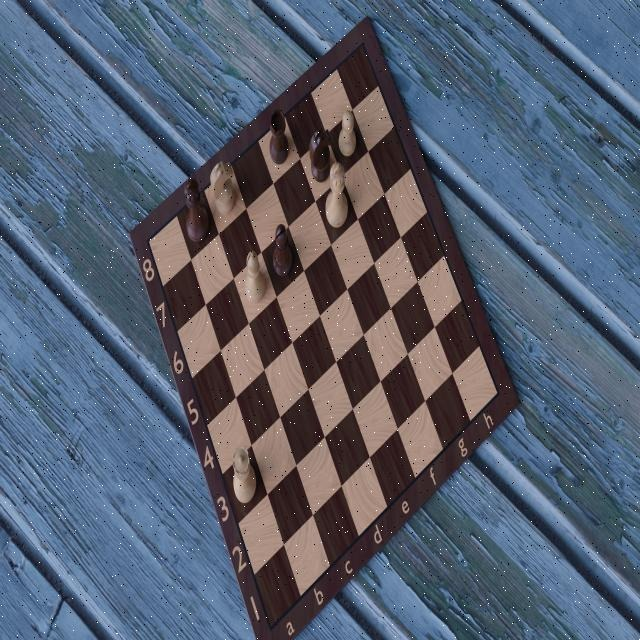black-bishop: (271, 223, 293, 277)
black-king: (183, 176, 209, 243)
black-knight: (308, 125, 332, 182)
black-rook: (268, 108, 290, 164)
white-bishop: (244, 249, 265, 304)
white-king: (324, 159, 348, 228)
white-knight: (209, 159, 236, 217)
white-pawn: (338, 109, 358, 158)
white-queen: (231, 444, 257, 504)
